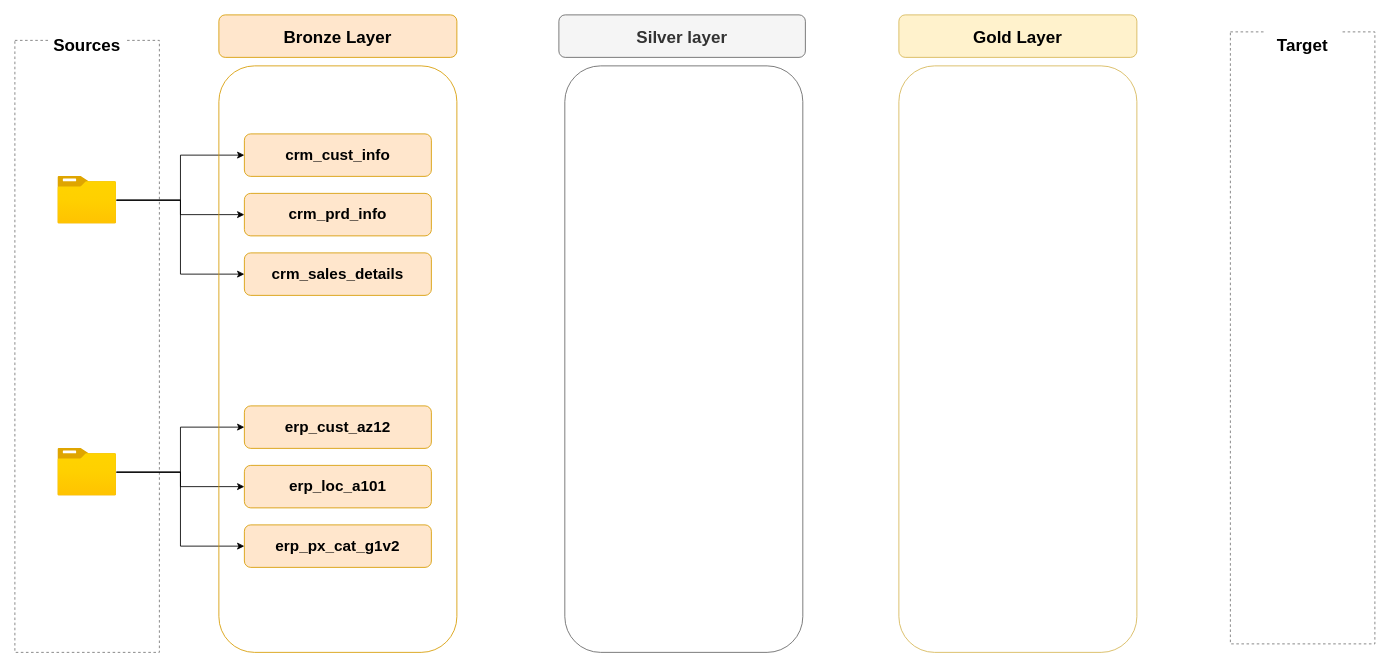
Some shapes in this 1390 by 667 pixel diagram are drawn without their labels. Each missing label, with the centre of its shape:
CRM: (x=86, y=200)
ERP: (x=86, y=472)
